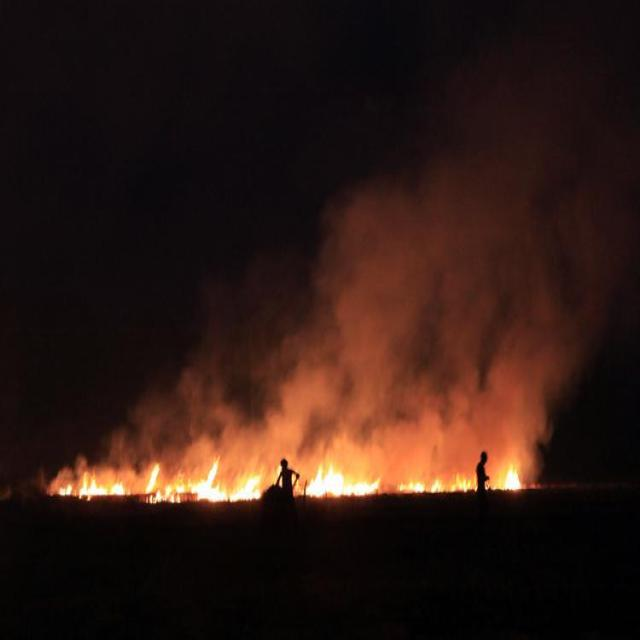fire: (60, 459, 513, 504)
